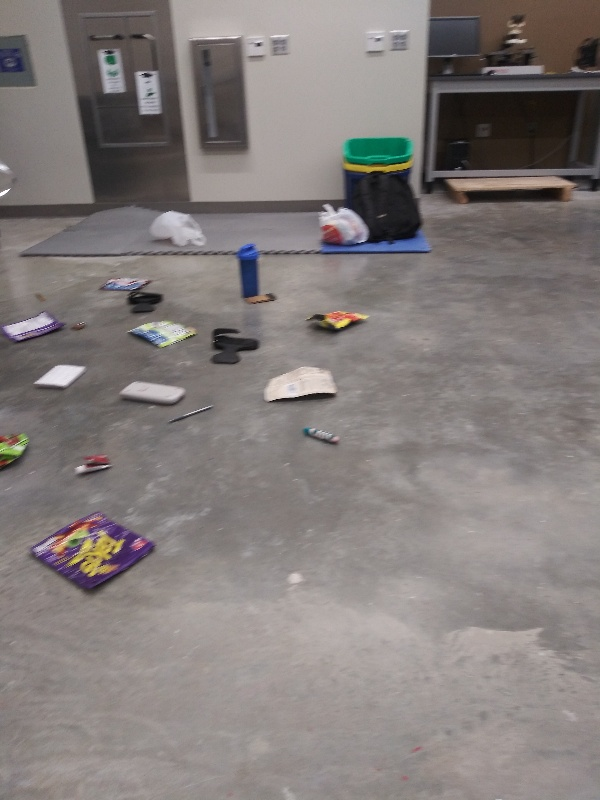bag: (27, 509, 162, 601), (260, 363, 340, 401), (1, 308, 67, 348), (123, 319, 199, 350), (304, 308, 371, 332), (1, 428, 32, 474), (96, 275, 155, 293)
